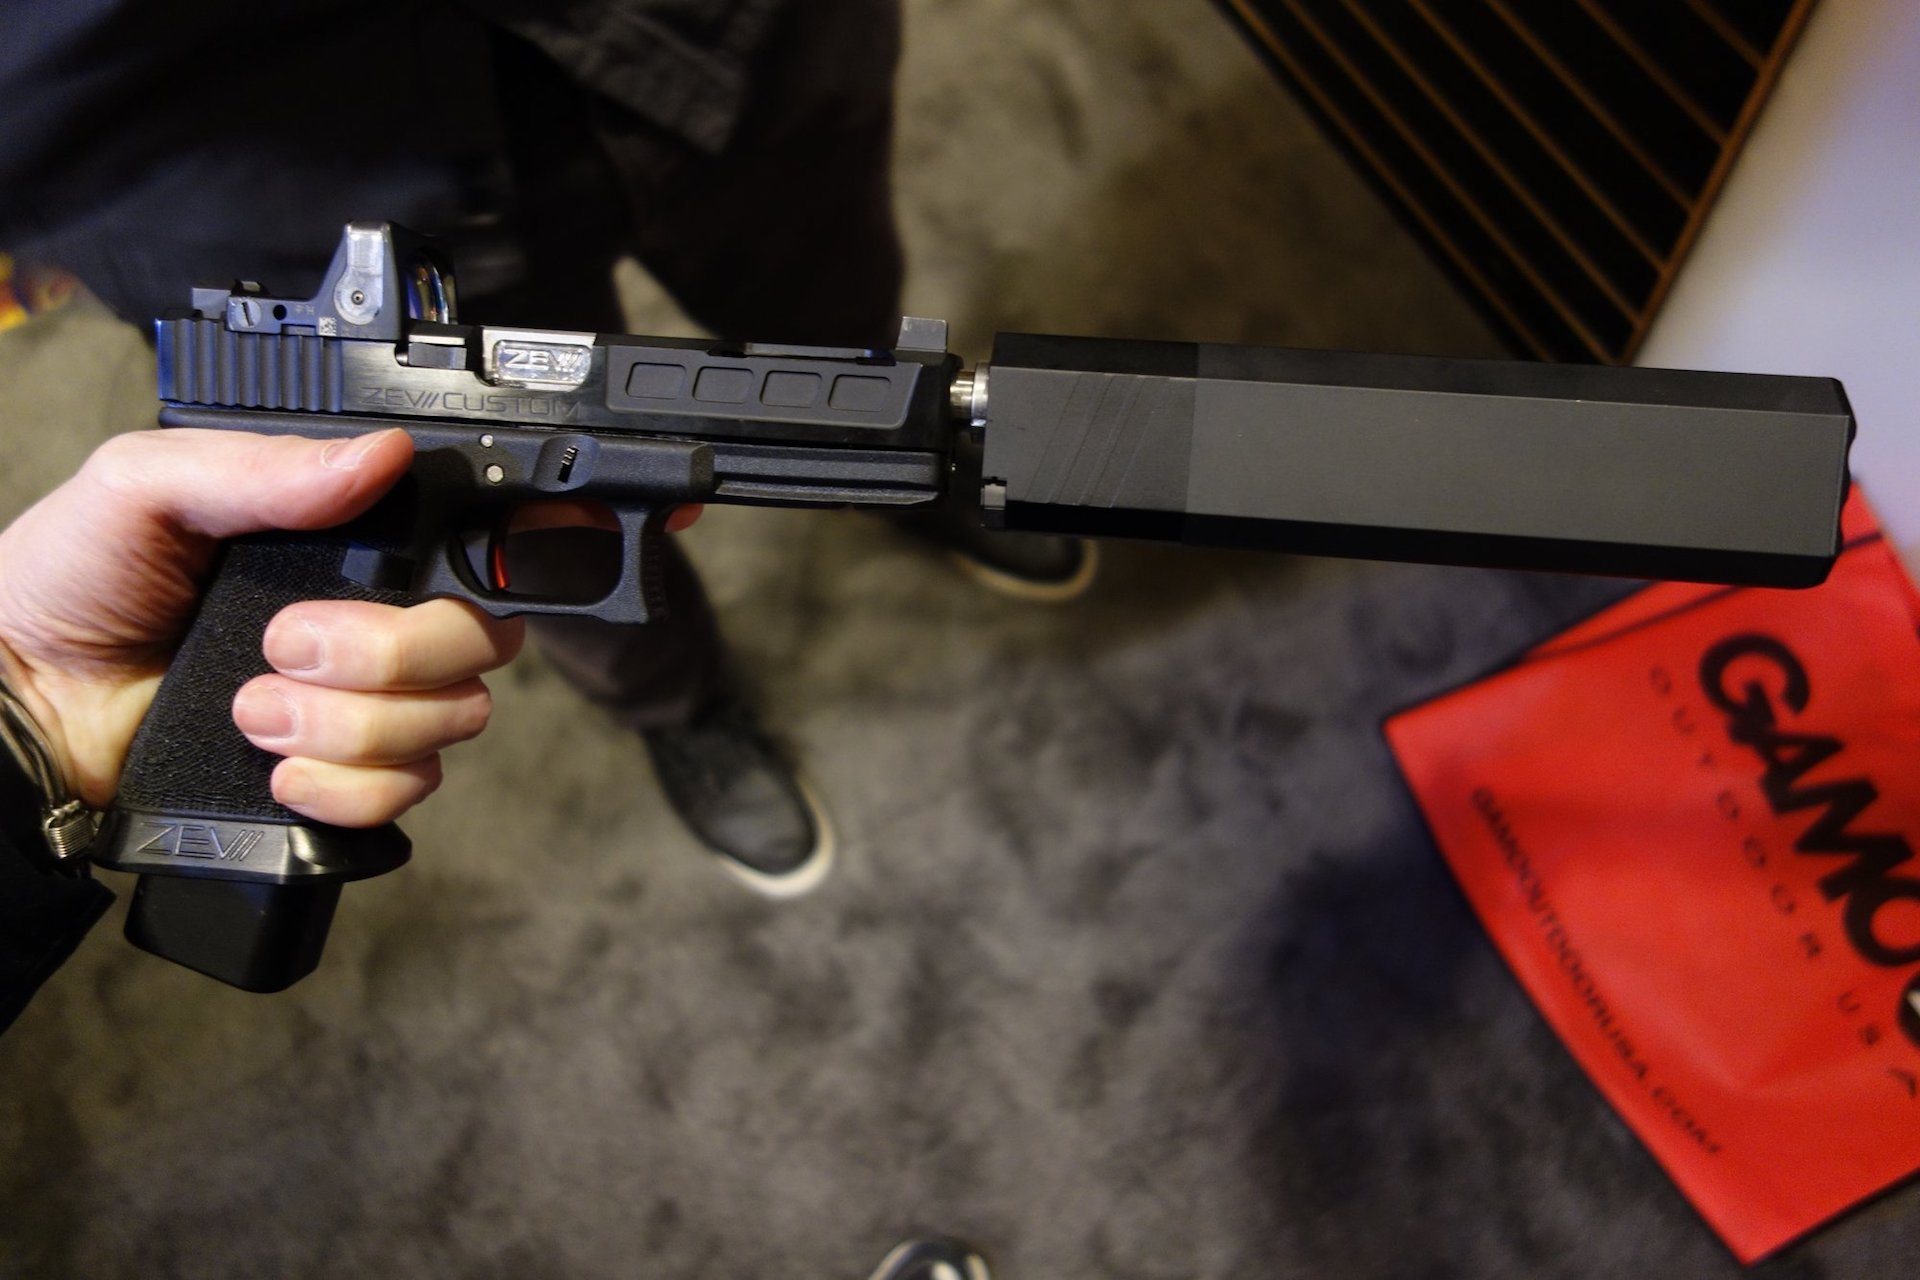pistol: (90, 216, 970, 881)
